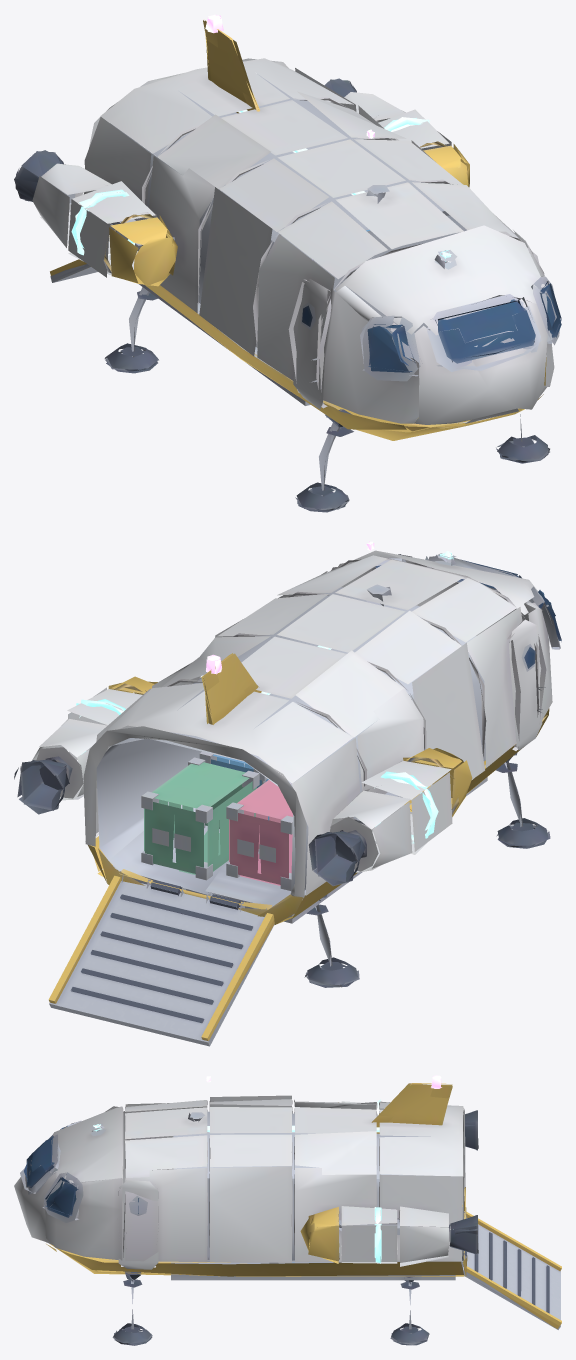
File: RiftFreighter.glb
The picture shows the model from 3 angles, top to bottom: view 1: azimuth 30°, elevation 25°; view 2: azimuth 150°, elevation 25°; view 3: azimuth 270°, elevation 25°; orthographic projection. The views are drawn at different scales.
Visible parts, largest first — view 1: cargo-shuttle_body, cargo-shuttle_engine_glow, cargo-shuttle_ramp; view 2: cargo-shuttle_body, cargo-shuttle_ramp, cargo-shuttle_engine_glow; view 3: cargo-shuttle_body, cargo-shuttle_ramp, cargo-shuttle_engine_glow.
Part boxes in pixels (x1,y1,x2,y2): cargo-shuttle_body: (14, 20, 561, 512); cargo-shuttle_engine_glow: (71, 117, 430, 255); cargo-shuttle_ramp: (50, 259, 97, 282); cargo-shuttle_body: (14, 550, 561, 987); cargo-shuttle_ramp: (48, 875, 274, 1046); cargo-shuttle_engine_glow: (76, 699, 438, 843); cargo-shuttle_body: (14, 1083, 478, 1345); cargo-shuttle_ramp: (462, 1211, 561, 1329); cargo-shuttle_engine_glow: (374, 1099, 453, 1263).
Bounding box in the file's own units: 5.26 × 4.25 × 9.38.
Materials: 6 (2 with a texture image).
